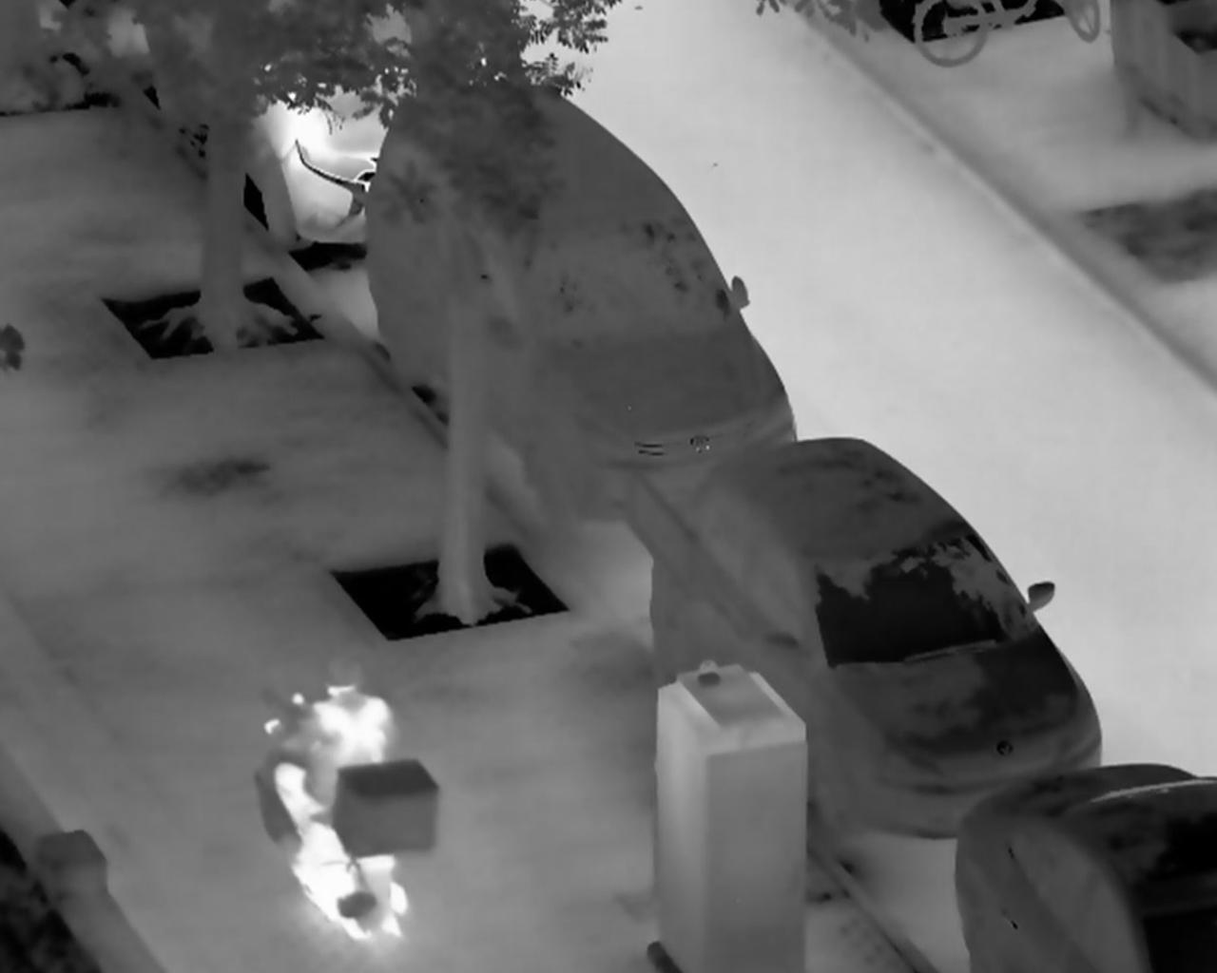person: (272, 652, 397, 903)
